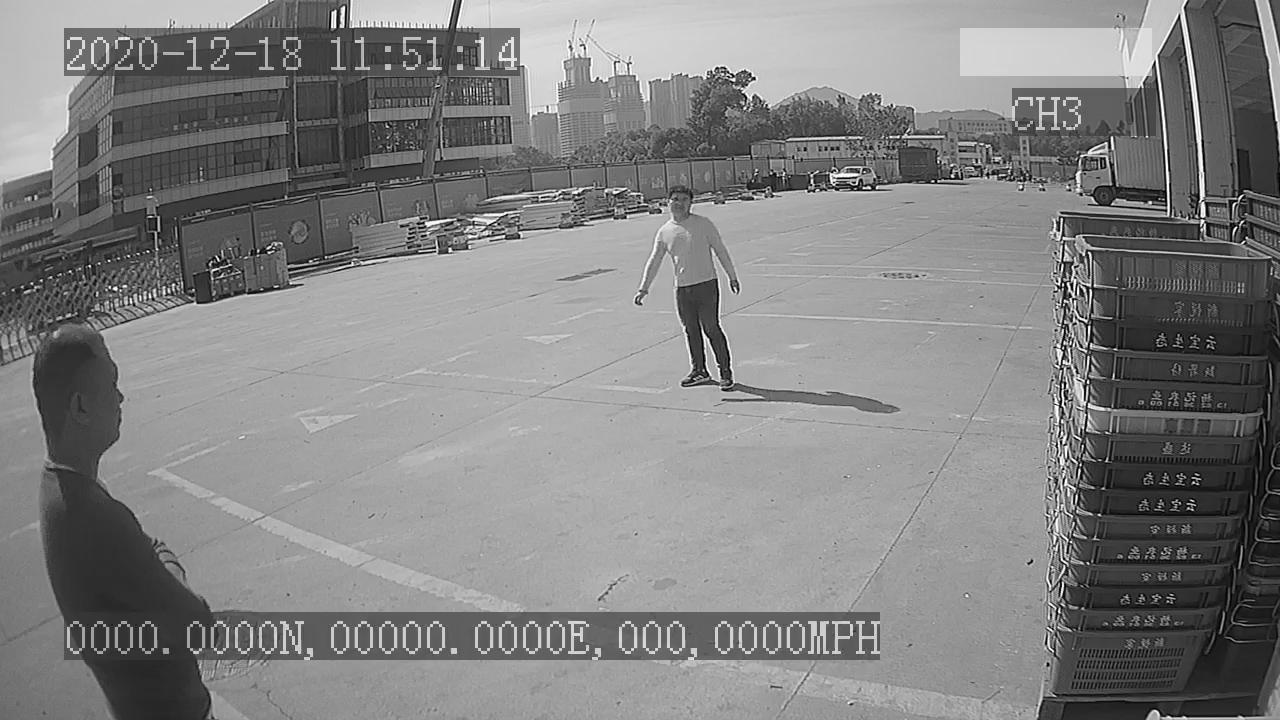person: (624, 183, 745, 395)
